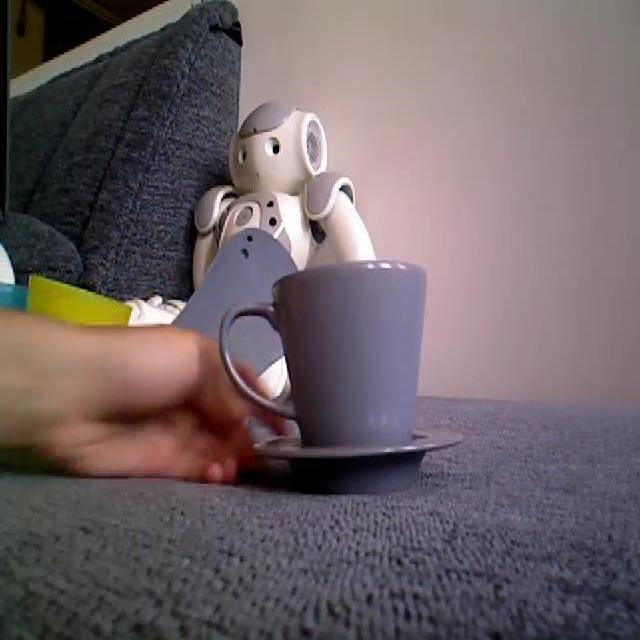cup: (224, 260, 468, 499)
